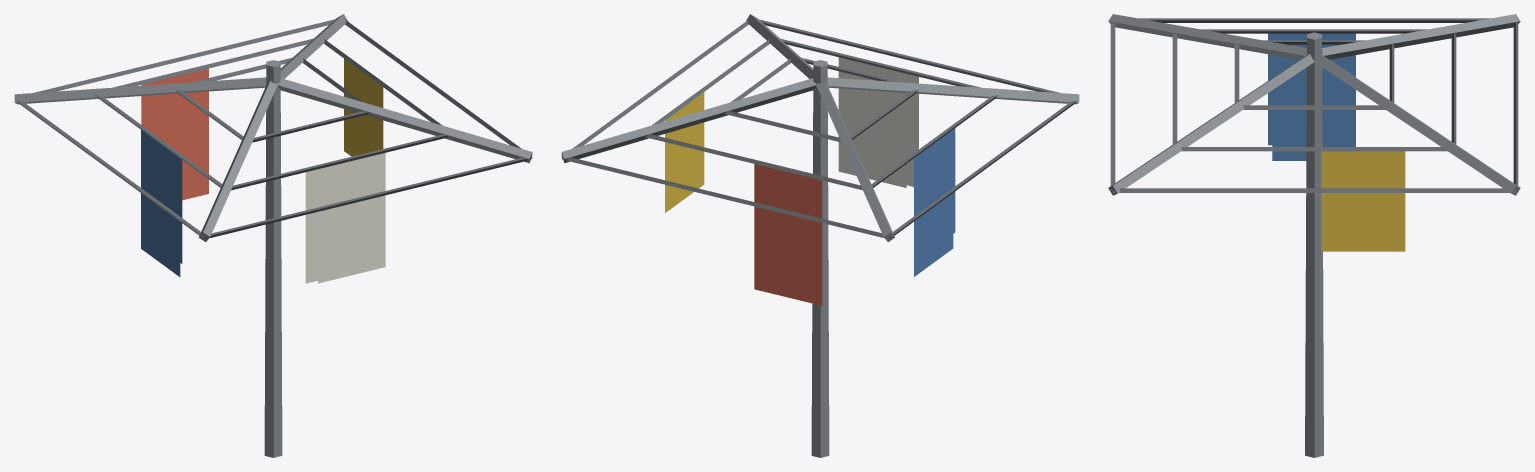
Rendered from hills_hoist.glb.
3 views of the same model, side by side, from view 1: azimuth 30°, elevation 25°; view 2: azimuth 150°, elevation 25°; view 3: azimuth 270°, elevation 25° (orthographic). The views are drawn at different scales.
Visible parts, largest first — view 1: hills_hoist2; view 2: hills_hoist2; view 3: hills_hoist2.
Boxes of the visible parts, x1,y1,x2,y2 form: hills_hoist2: [14, 14, 532, 457]; hills_hoist2: [561, 14, 1079, 457]; hills_hoist2: [1108, 14, 1520, 457].
Size of the model in its own units: 2.63 by 2.94 by 2.63.
